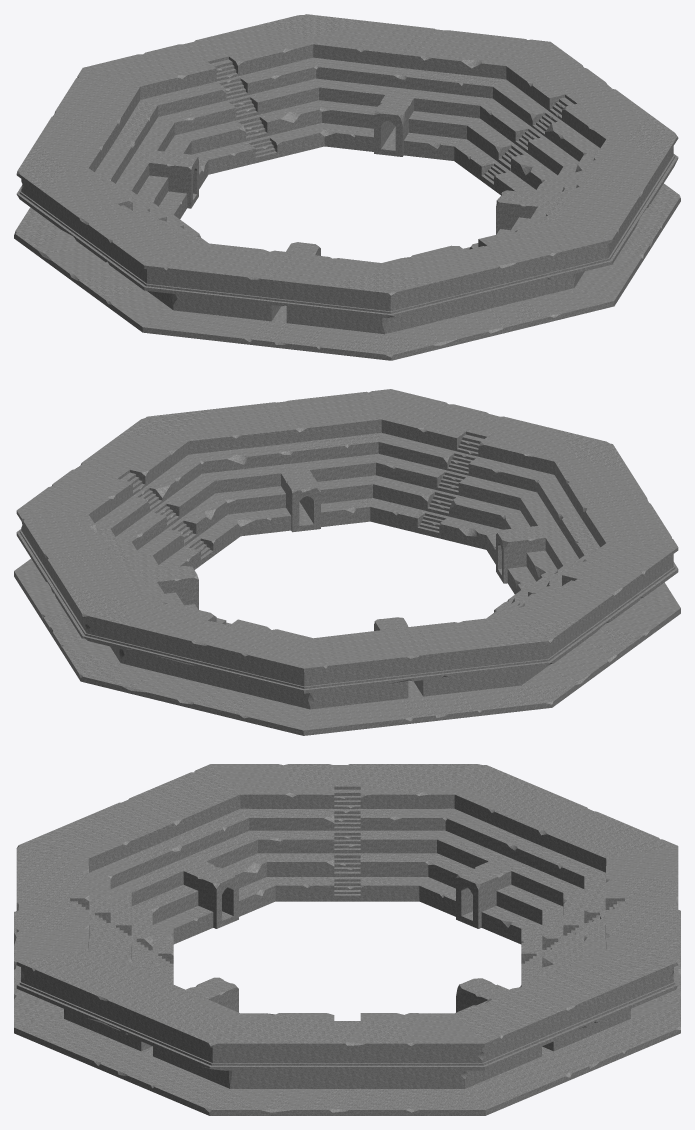
File: materials_3_building_3.fbx
The picture shows the model from 3 angles, top to bottom: view 1: azimuth 30°, elevation 25°; view 2: azimuth 150°, elevation 25°; view 3: azimuth 270°, elevation 25°; orthographic projection. The views are drawn at different scales.
Parts seen in each view (by area): view 1: materials_3_building_3; view 2: materials_3_building_3; view 3: materials_3_building_3.
Boxes of the visible parts, box(x1,y1,x2,y2) form: materials_3_building_3: box(14, 14, 680, 360); materials_3_building_3: box(14, 389, 680, 735); materials_3_building_3: box(14, 764, 680, 1115).
Size of the model in its own units: 6976 by 820 by 6976.
